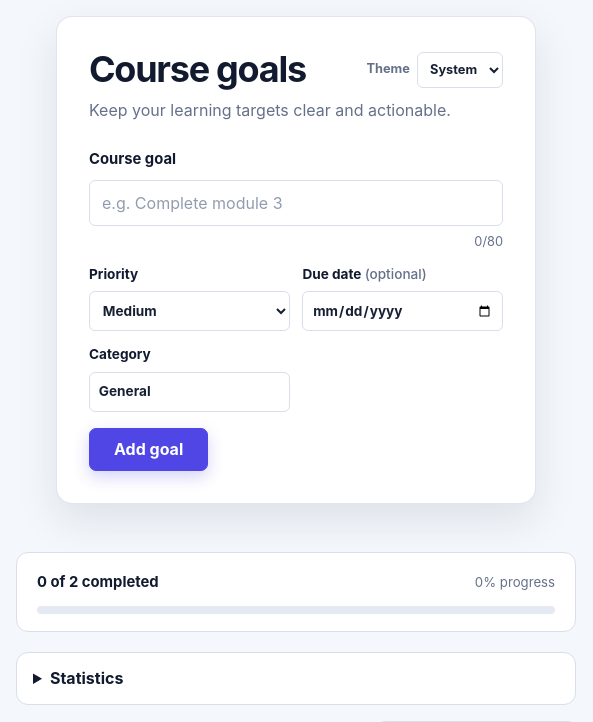
Scenario: Course Goals › rejects duplicate goals
In the field with placeholder "e.g. Complete module 3": (296, 203) [89,180,503,226], type "Do all exercises!"
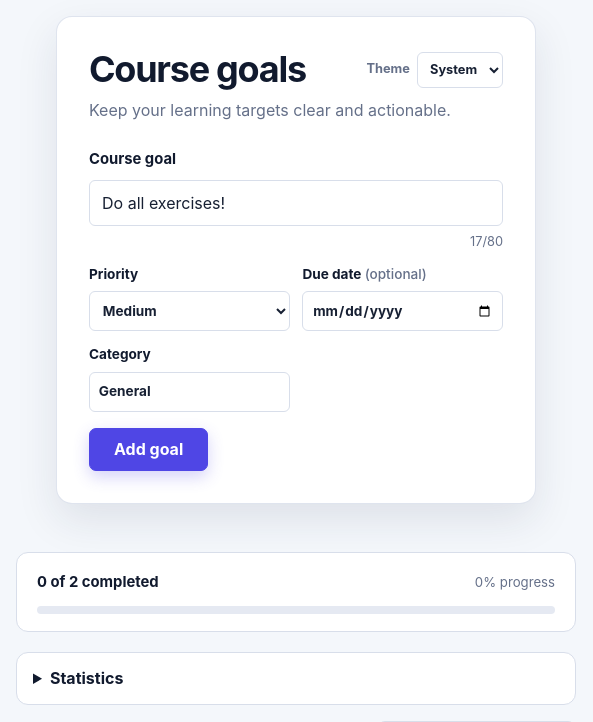
Click the button "Add goal": (149, 449) [89,428,208,471]
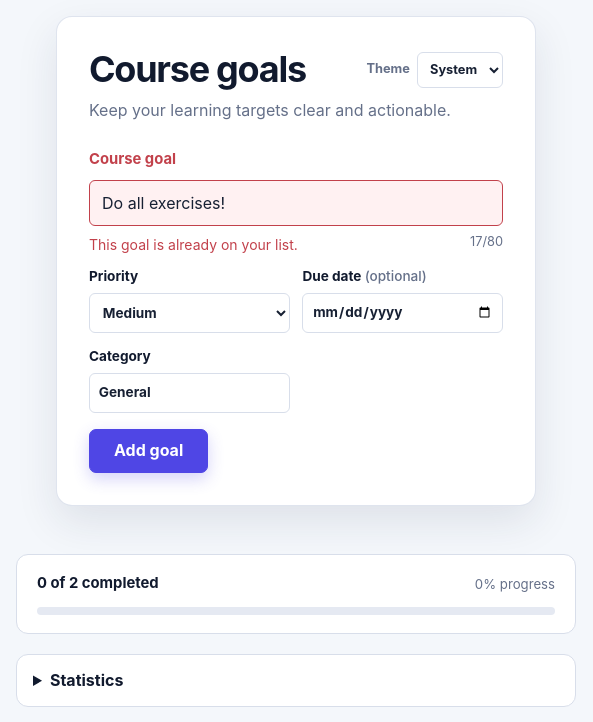
Result: the text "This goal is already on your list." is shown at [89,236,298,253]
